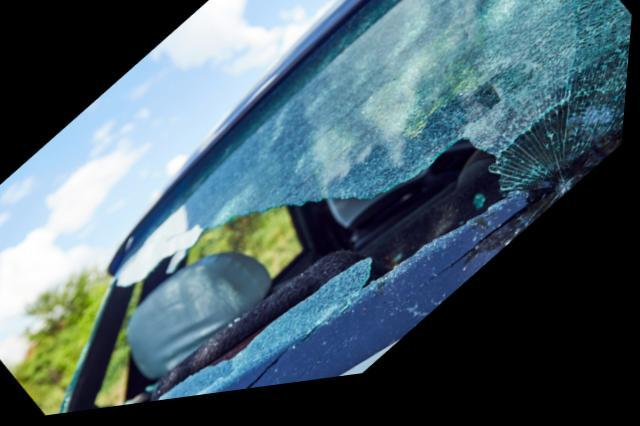glass shatter: (66, 0, 634, 416)
